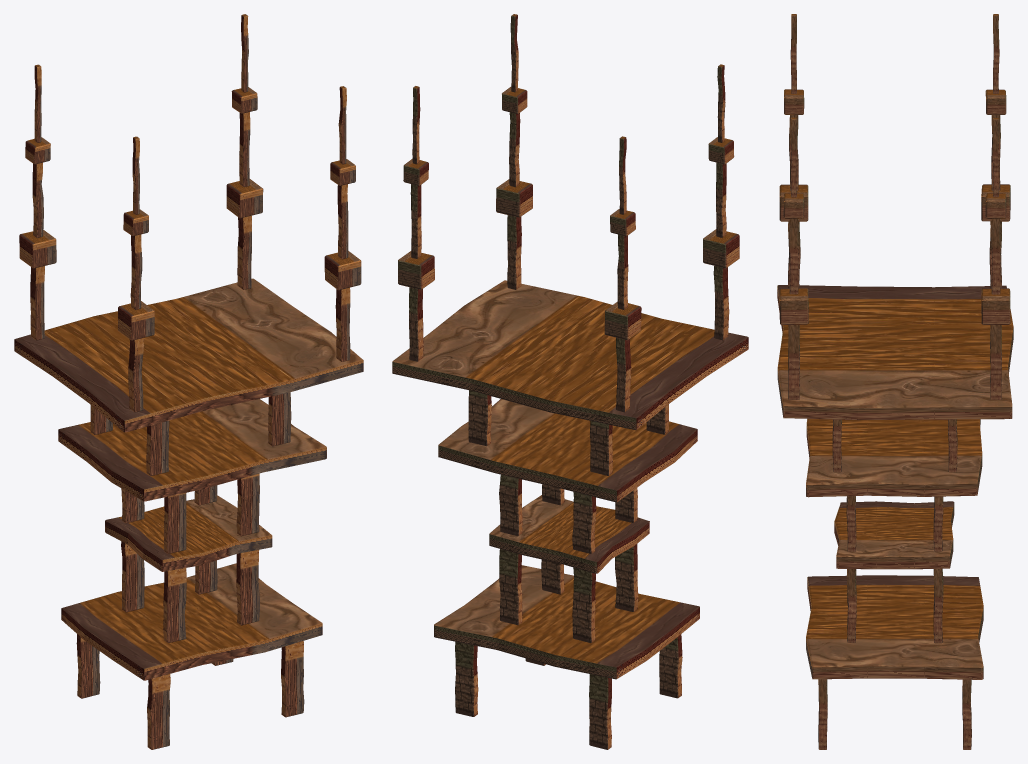
File: M11_Dynamic1Wood_2kg.fbx
3 views of the same model, side by side, from view 1: azimuth 30°, elevation 25°; view 2: azimuth 150°, elevation 25°; view 3: azimuth 270°, elevation 25° (orthographic). The views are drawn at different scales.
Visible parts, largest first — view 1: D1Box16, D1Box5, D1Box15, D1Box6, D1Box10, D1Box7, D1Box4, D1Box1, D1Box8, D1Box11, D1Box14, D1Box3 (+19 smaller); view 2: D1Box16, D1Box5, D1Box15, D1Box6, D1Box9, D1Box3, D1Box2, D1Box8, D1Box7, D1Box13, D1Box12, D1Box4 (+16 smaller); view 3: D1Box16, D1Box5, D1Box15, D1Box6, D1Box36, D1Box35, D1Box21, D1Box22, D1Box28, D1Box27, D1Box9, D1Box10 (+16 smaller).
Boxes of the visible parts, x1,y1,x2,y2 form: D1Box16: (14,278,363,432); D1Box5: (61,563,322,680); D1Box15: (58,399,326,501); D1Box6: (105,495,272,571); D1Box10: (236,550,259,625); D1Box7: (163,568,186,642); D1Box4: (147,674,170,749); D1Box1: (281,641,304,717); D1Box8: (121,541,144,612); D1Box11: (236,473,259,536); D1Box14: (164,492,186,553); D1Box3: (76,634,100,698); D1Box16: (392,280,748,430); D1Box5: (434,565,699,679); D1Box15: (438,399,697,502); D1Box6: (489,495,649,573); D1Box9: (499,549,522,625); D1Box3: (589,674,611,749); D1Box2: (455,641,478,716); D1Box8: (572,567,595,642); D1Box7: (615,544,638,611); D1Box13: (572,491,596,553); D1Box12: (499,474,522,535); D1Box4: (659,634,682,698); D1Box16: (777,285,1013,420); D1Box5: (806,575,983,679); D1Box15: (806,419,982,497); D1Box6: (834,501,954,569); D1Box36: (779,287,808,325); D1Box35: (981,288,1010,324); D1Box21: (788,325,799,399); D1Box22: (990,325,1001,399); D1Box28: (789,218,798,294); D1Box27: (991,218,1000,294); D1Box9: (933,568,943,643); D1Box10: (847,569,856,642).
Size of what is drawn, in the model's own units: 20.22 by 49.36 by 16.37.
